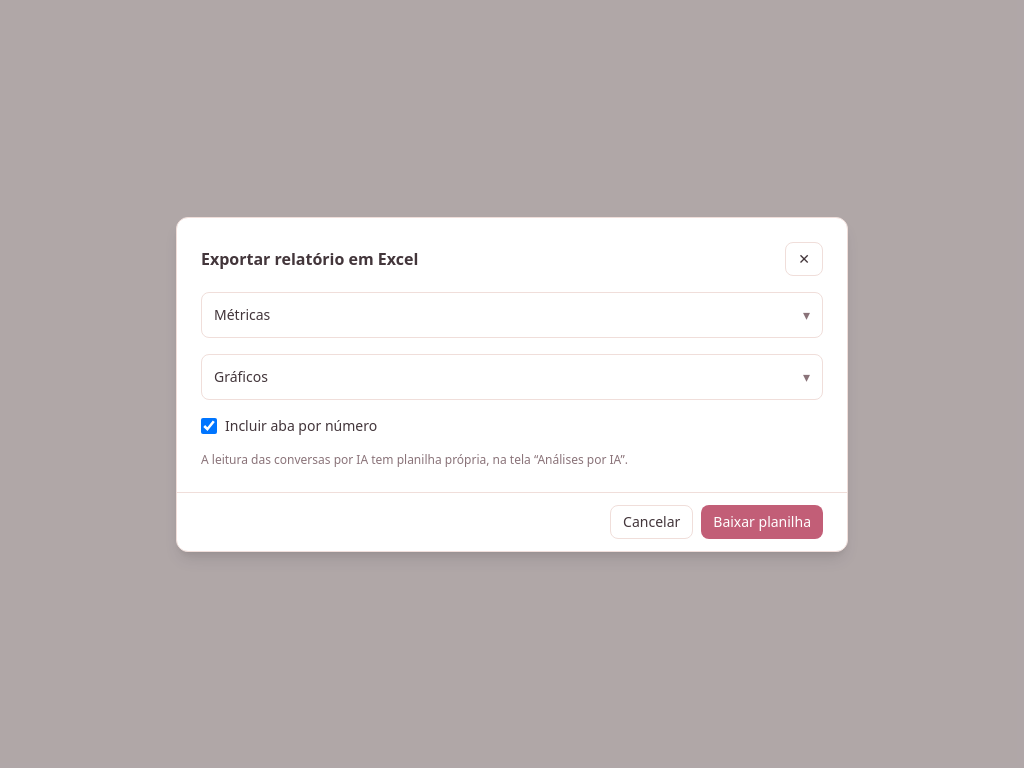
Test: ExportReportDialog › no celular › abre a seção de métricas e marca a contagem escolhida
The width and height of the screenshot is (1024, 768).
Click the button "Métricas ▾": x=242, y=314 [202, 292, 822, 336]
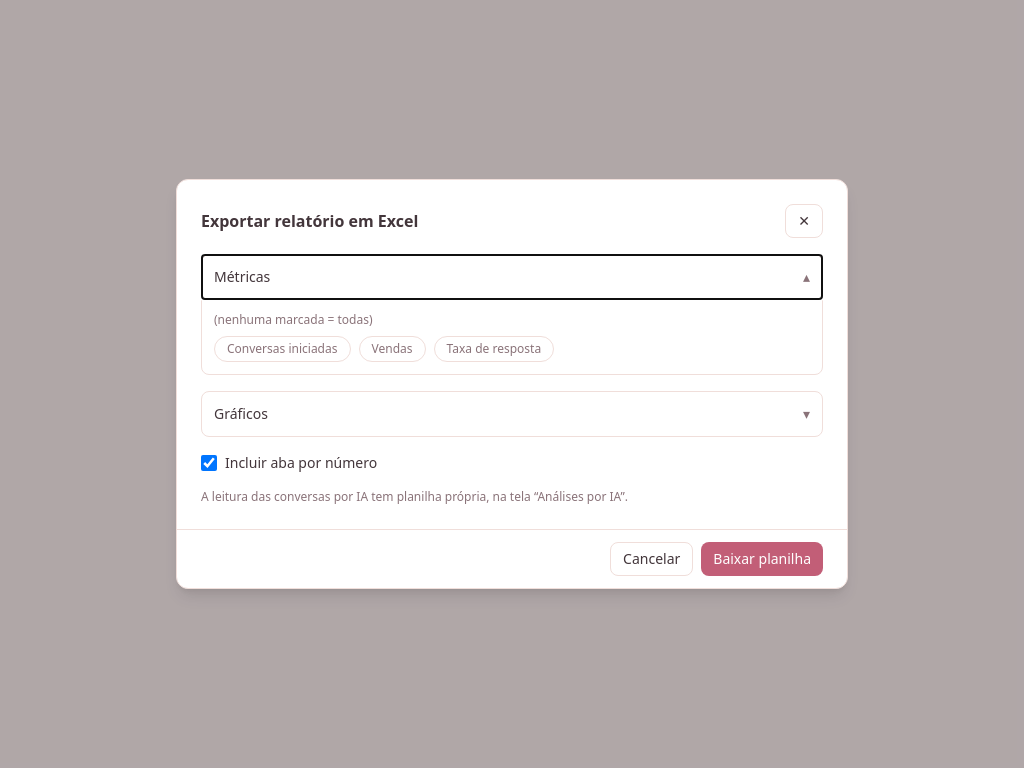
Click the button "Vendas": x=392, y=349 [358, 336, 426, 362]
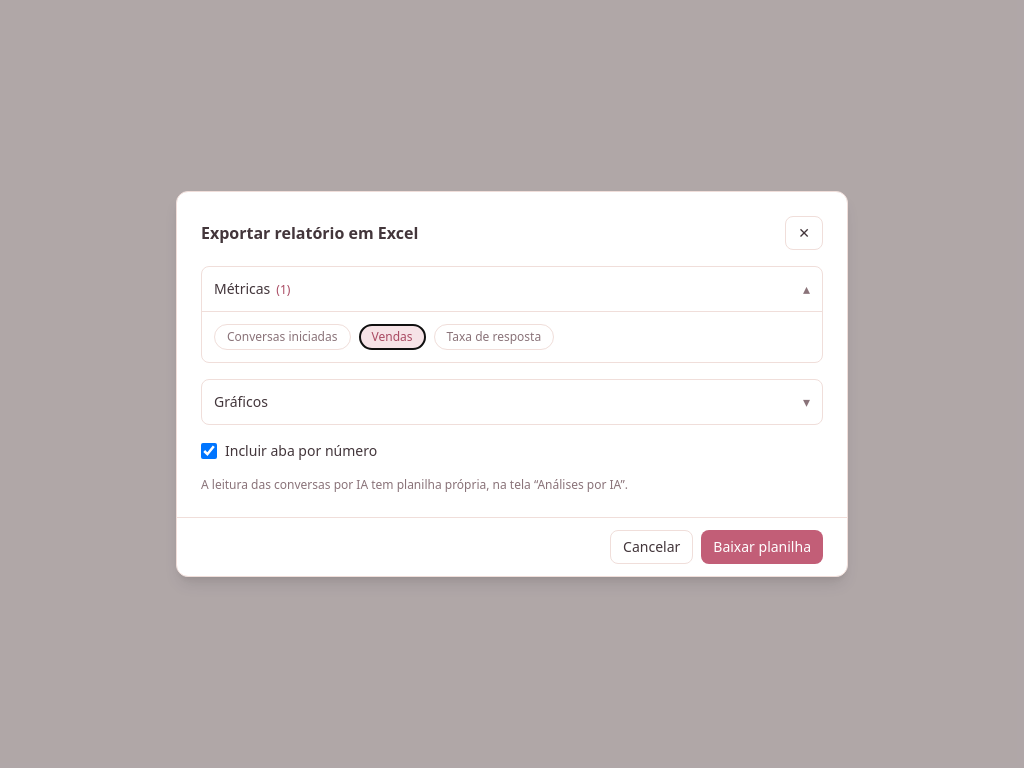
Expected: the button "Métricas(1) ▴" is shown, [202, 267, 822, 311]
